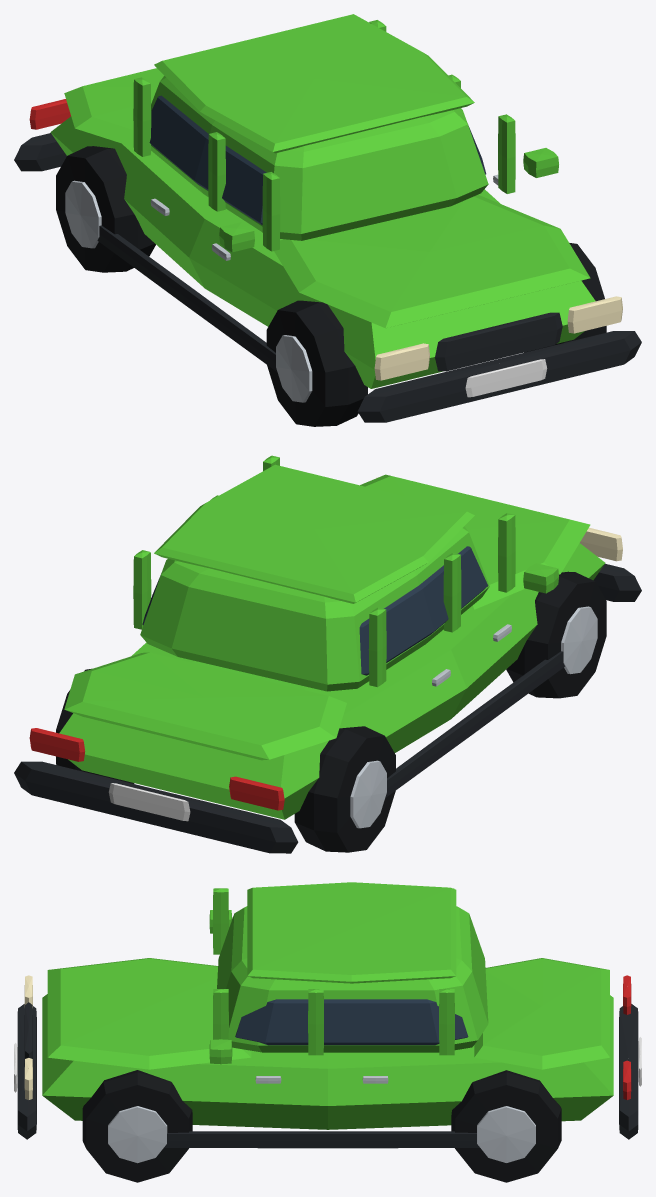
Rendered from s-car-4.glb.
3 renders of one model, top to bottom at view 1: azimuth 30°, elevation 25°; view 2: azimuth 150°, elevation 25°; view 3: azimuth 270°, elevation 25°, orthographic. The views are drawn at different scales.
Visible parts, largest first — view 1: p; view 2: p; view 3: p.
Part boxes in pixels (box(x1,y1,x2,y2)): p: box(14, 14, 641, 426); p: box(14, 455, 641, 853); p: box(14, 882, 641, 1182).
Size of the model in its own units: 2.02 by 1.32 by 3.8.
